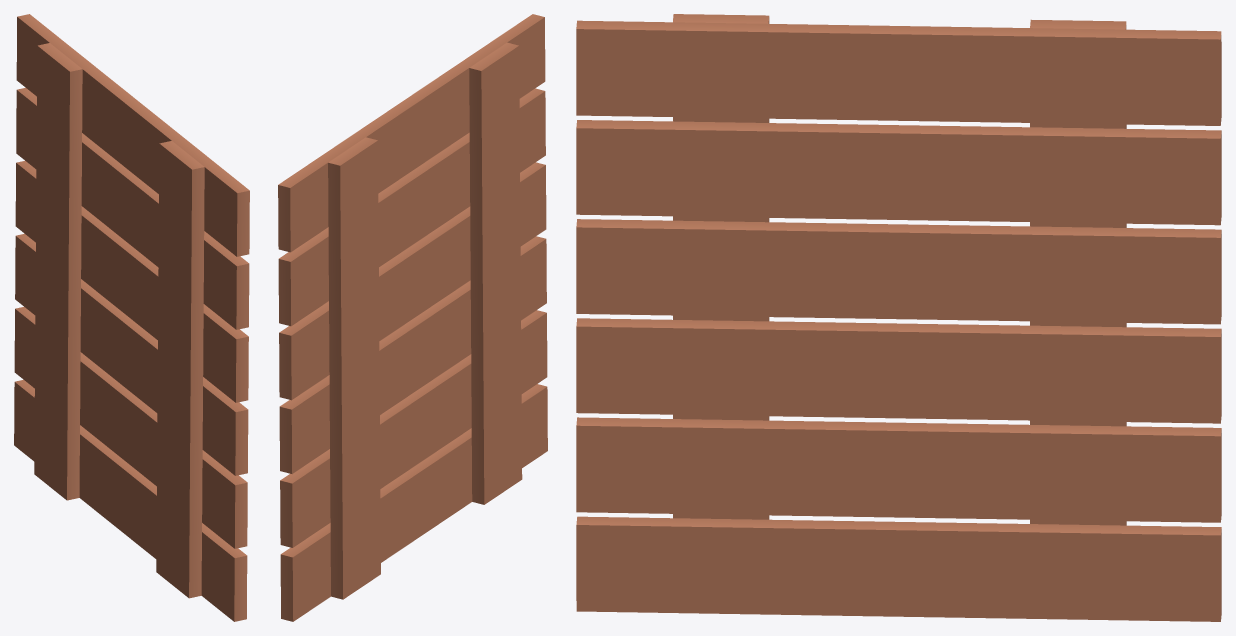
Rendered from planks.065_lev4.glb.
3 views of the same model, side by side, from view 1: azimuth 30°, elevation 25°; view 2: azimuth 150°, elevation 25°; view 3: azimuth 270°, elevation 25° (orthographic). The views are drawn at different scales.
Visible parts, largest first — view 1: planks.065_lev4; view 2: planks.065_lev4; view 3: planks.065_lev4.
Part boxes in pixels (x1,y1,x2,y2): planks.065_lev4: (14,14,249,621); planks.065_lev4: (278,14,547,621); planks.065_lev4: (576,14,1221,621).
Size of the model in its own units: 0.7117 by 7.11 by 7.12.
1 material, 1 textured.
